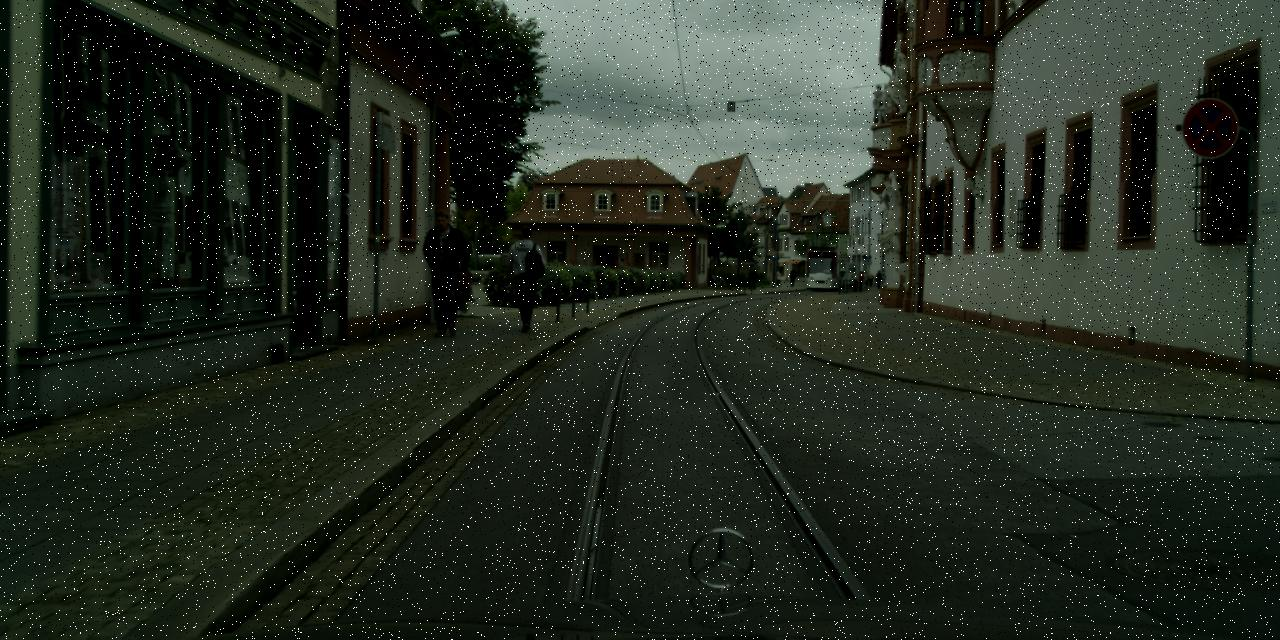ped: (419, 208, 469, 332), (504, 225, 548, 330), (860, 270, 874, 292), (747, 263, 757, 289), (874, 270, 882, 290), (788, 267, 796, 286), (774, 268, 781, 286)
